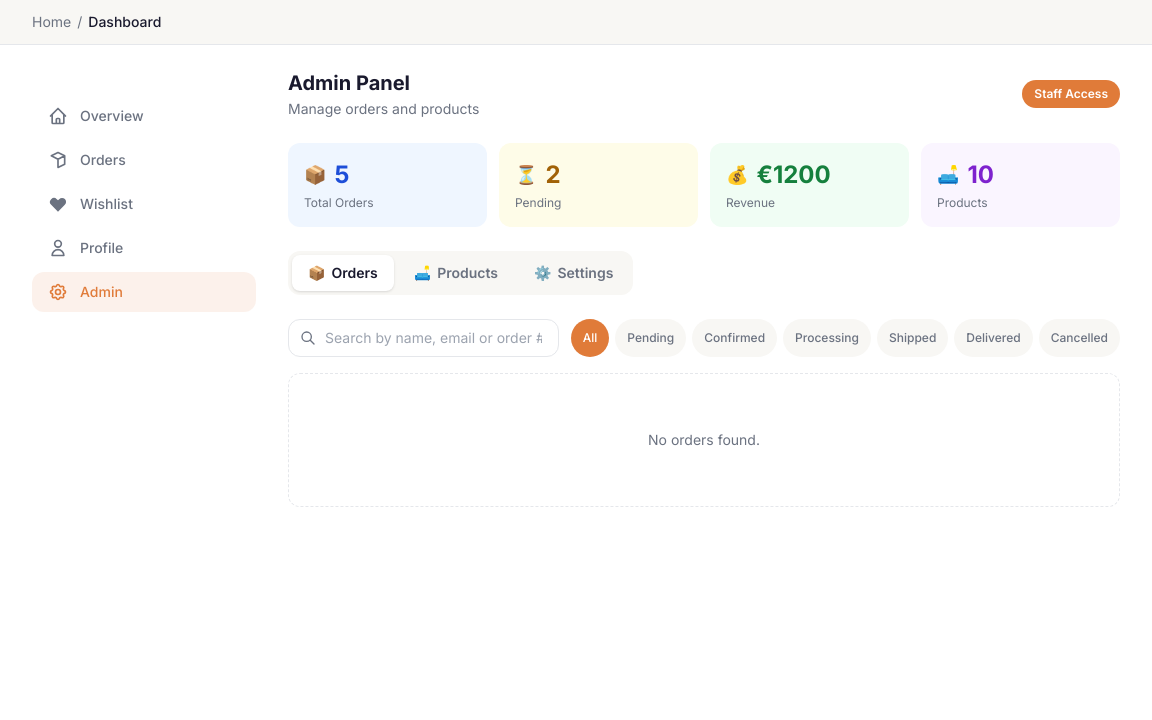
Admin Settings tab › loads shipping fee and threshold from API on mount
expect the heading "Admin Panel" is shown: met, box [288, 71, 410, 95]
Click the button "⚙️ Settings".
click(574, 273)  # box [518, 255, 629, 291]
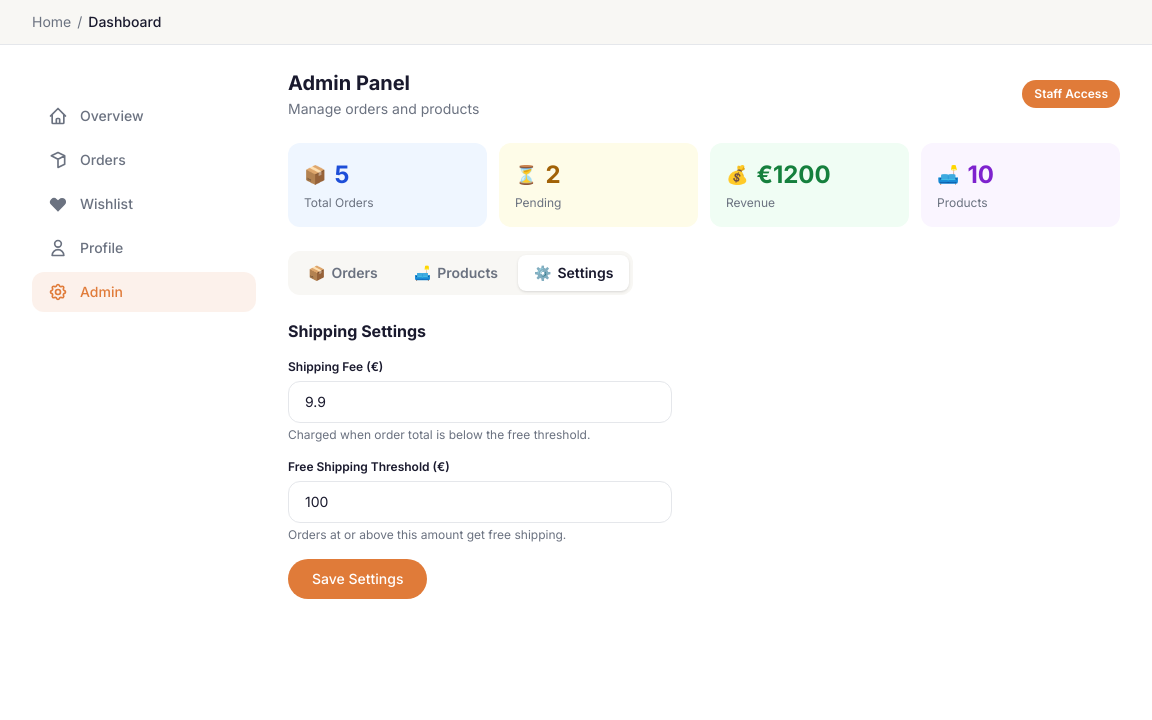
expect the heading "Shipping Settings" is shown: met, box [288, 321, 426, 341]
